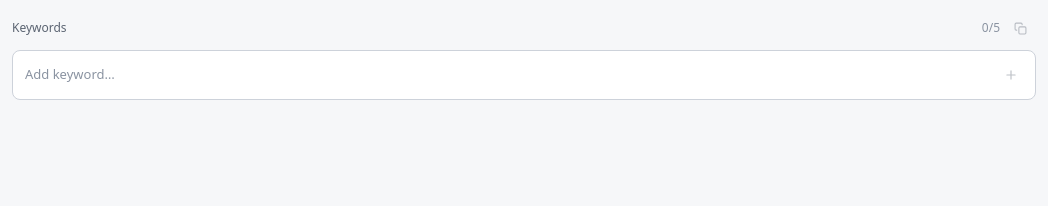
Test: KeywordEditor › adds a pasted comma-separated list
Click the field named "Add keyword to keywords". click: {"x": 506, "y": 75}
box: [21, 61, 991, 89]
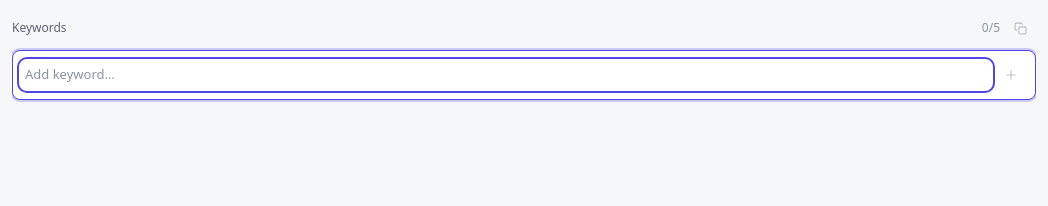
Type keys "winter, forest; wildlife"
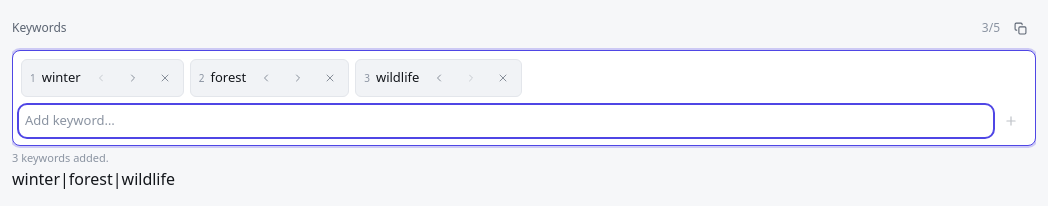
expect the text with test id "value" reads "winter|forest|wildlife": met, box [12, 168, 175, 190]
